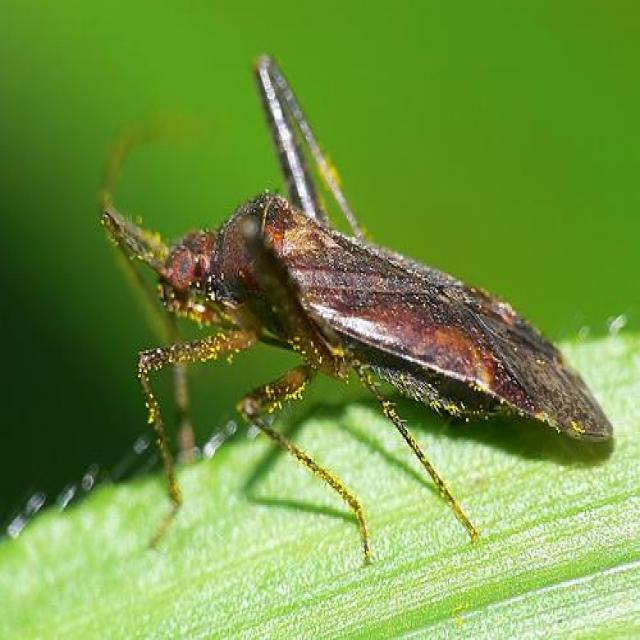Miridae-Adult-: (59, 43, 619, 590)
